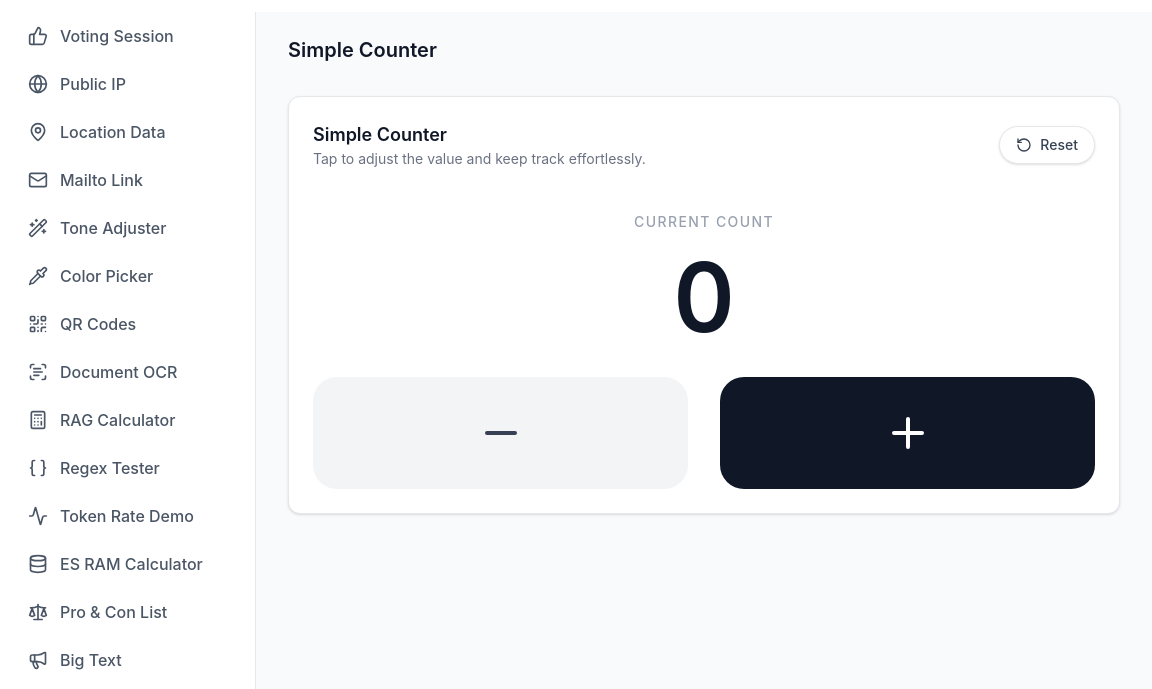
Scenario: App › renders Document OCR when selecting Document OCR
The width and height of the screenshot is (1152, 689).
(page scrolled)
Click the button "Document OCR": (128, 372) 16,352 -> 239,392
(page scrolled)
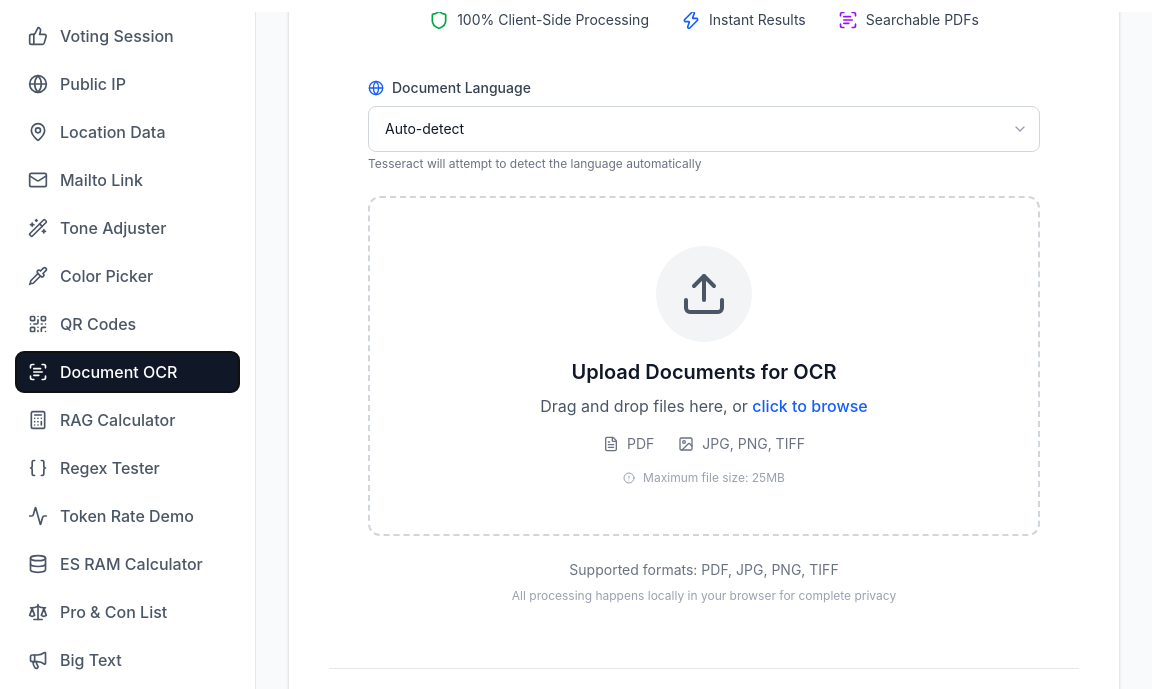
Expected: the heading "Upload Documents for OCR" is shown, 572,360 -> 836,384
